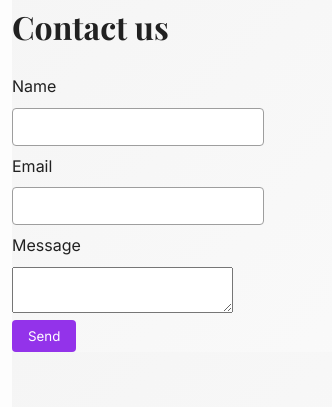
Test: shows success message
Type "A" into the field labelled "Name".
click(138, 127); type("A")  # box [12, 108, 264, 146]
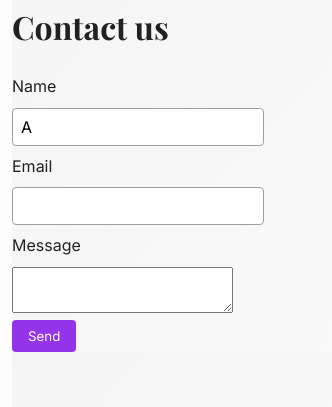
Type "a@b.c" into the field labelled "Email".
click(138, 206); type("a@b.c")  # box [12, 187, 264, 225]
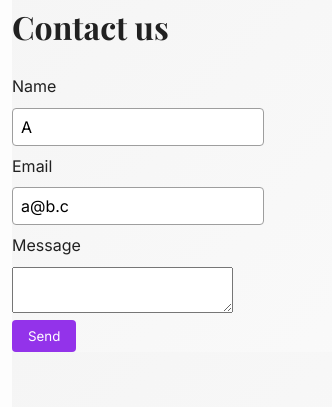
Type "Hi" into the text box labelled "Message".
click(122, 290); type("Hi")  # box [12, 267, 233, 313]
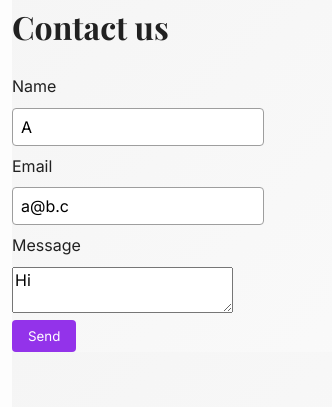
Click the button "Send".
click(44, 336)  # box [12, 320, 76, 352]
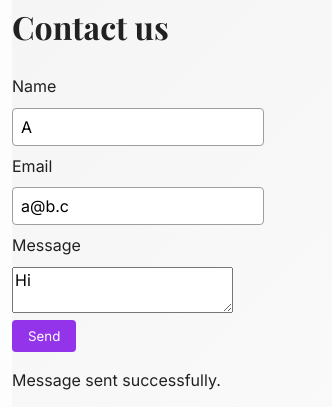
Expected: the text "Message sent successfully." is shown, [12, 370, 221, 390]
